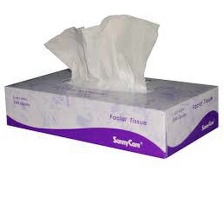book: (0, 60, 224, 163)
tissue: (38, 9, 164, 98)
